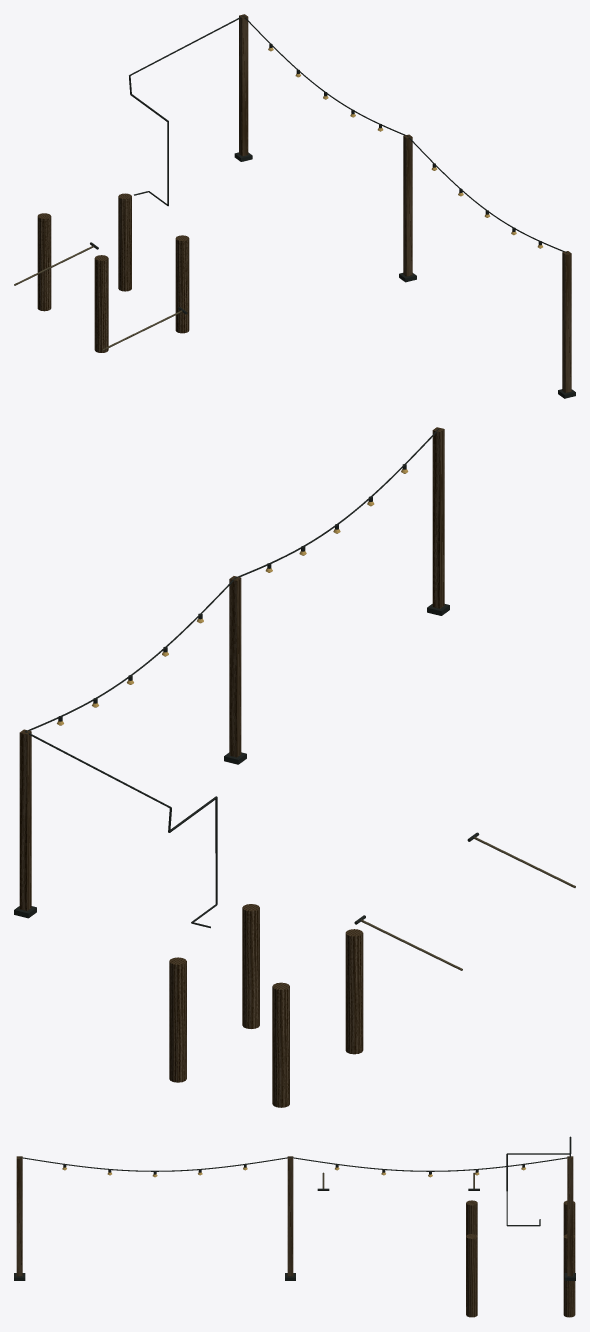
File: level_camp_dock_utilities.glb
3 renders of one model, top to bottom at view 1: azimuth 30°, elevation 25°; view 2: azimuth 150°, elevation 25°; view 3: azimuth 270°, elevation 25°, orthographic. The views are drawn at different scales.
Visible parts, largest first — view 1: level_camp_dock_utilities; view 2: level_camp_dock_utilities; view 3: level_camp_dock_utilities.
Part boxes in pixels (x1,y1,x2,y2): level_camp_dock_utilities: (14, 14, 575, 398); level_camp_dock_utilities: (14, 427, 575, 1107); level_camp_dock_utilities: (14, 1136, 575, 1317).
Bounding box in the file's own units: 6.35 × 5.07 × 12.45.
4 materials, 4 textured.
